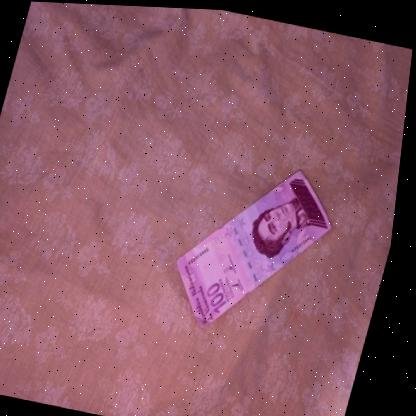one_hundred-front-vef: (163, 145, 351, 348)
